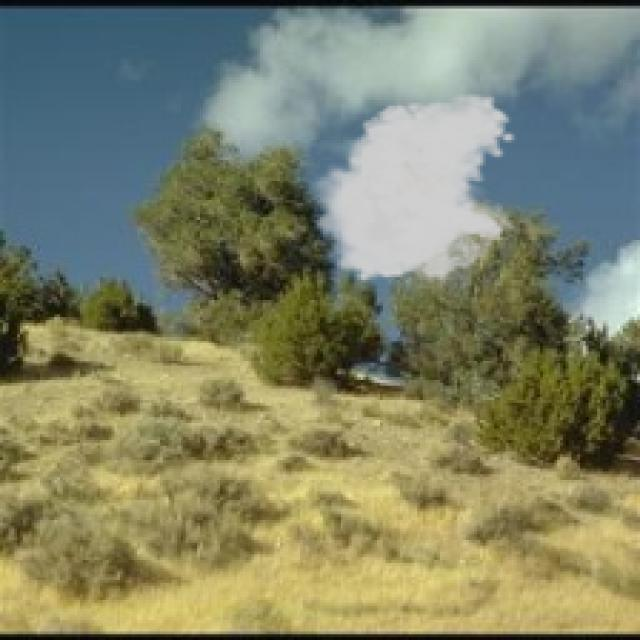smoke: (306, 92, 517, 294)
